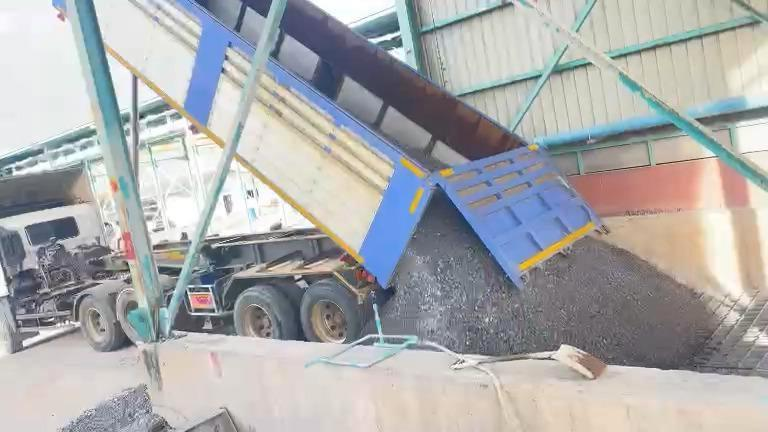gravel: (381, 194, 715, 367), (58, 384, 173, 430), (385, 132, 448, 168)
